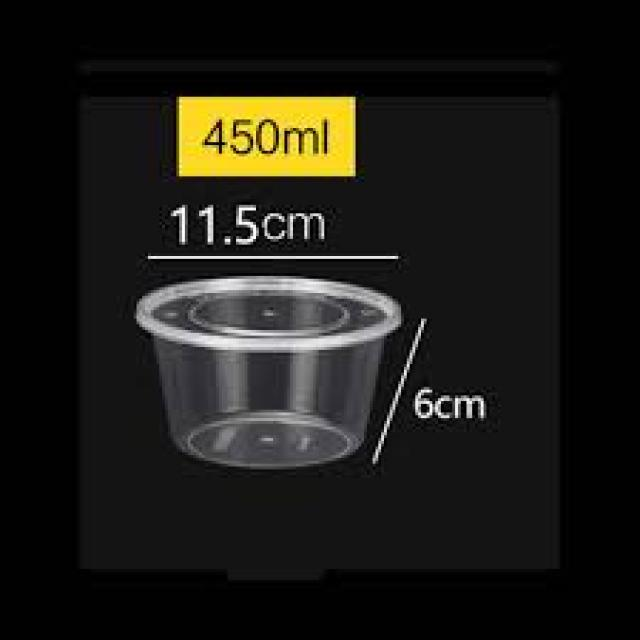disposable: (140, 261, 414, 480)
